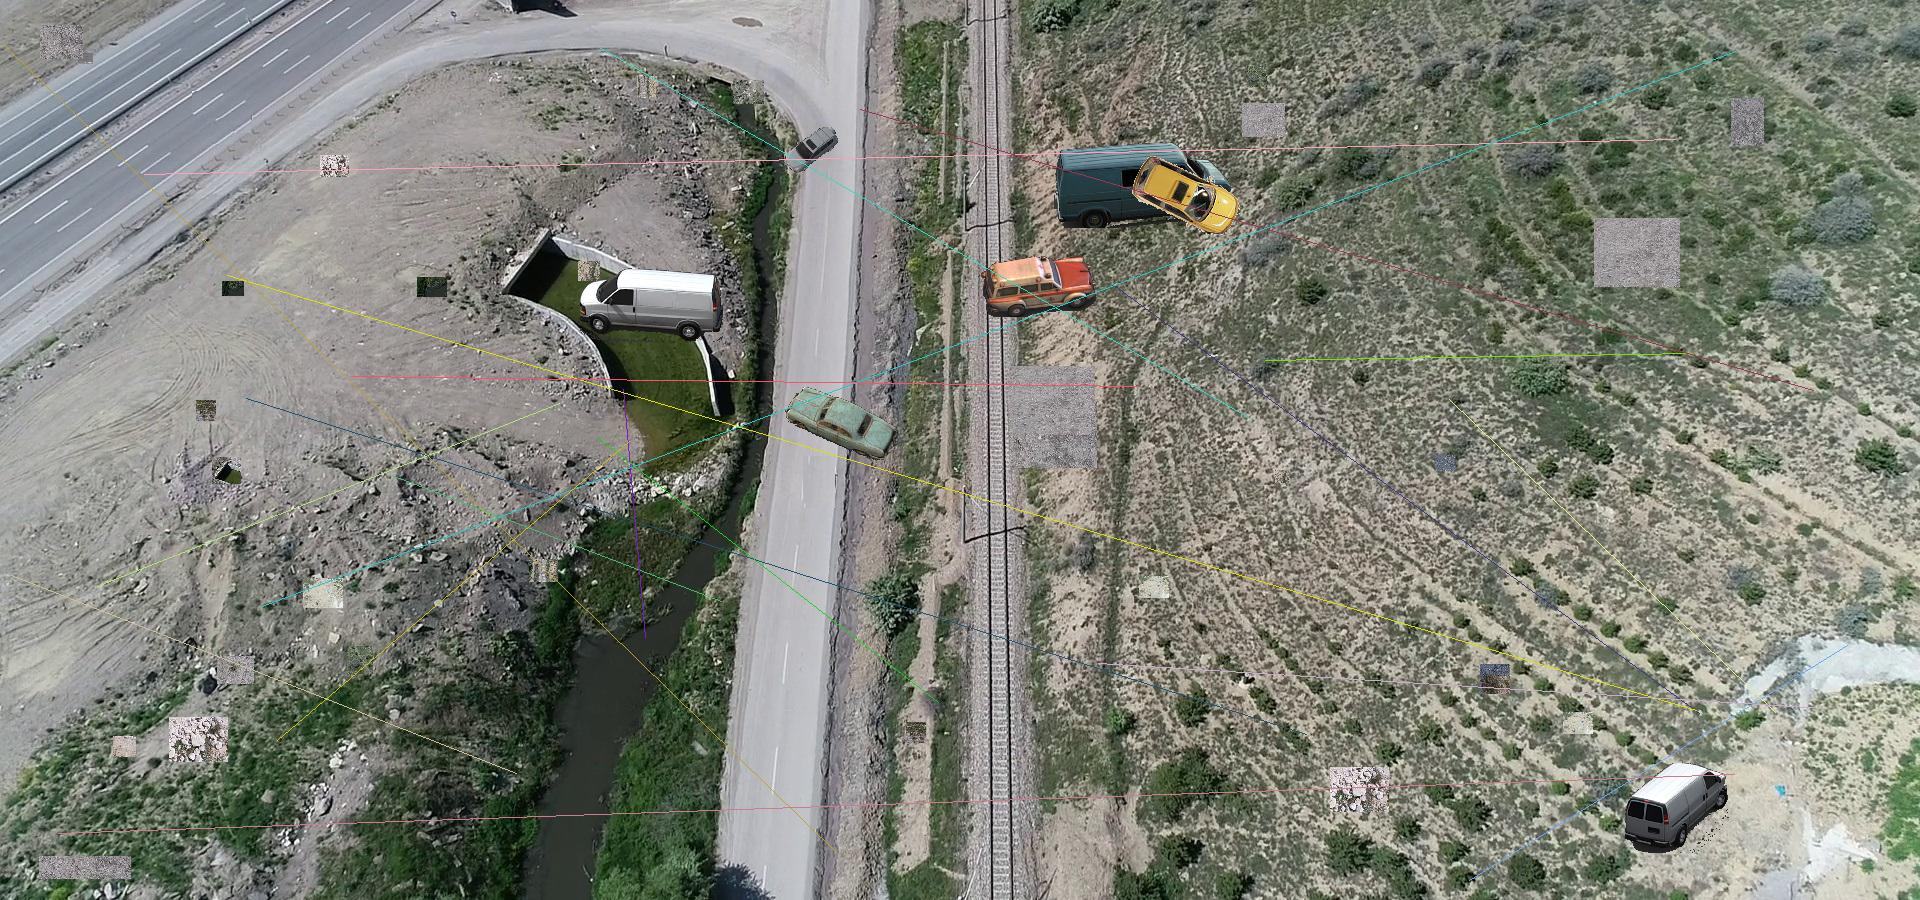arac: (1054, 143, 1231, 228), (580, 267, 722, 342), (1625, 762, 1729, 853), (782, 381, 898, 462), (1130, 156, 1240, 235), (981, 256, 1098, 317), (782, 127, 838, 171)
